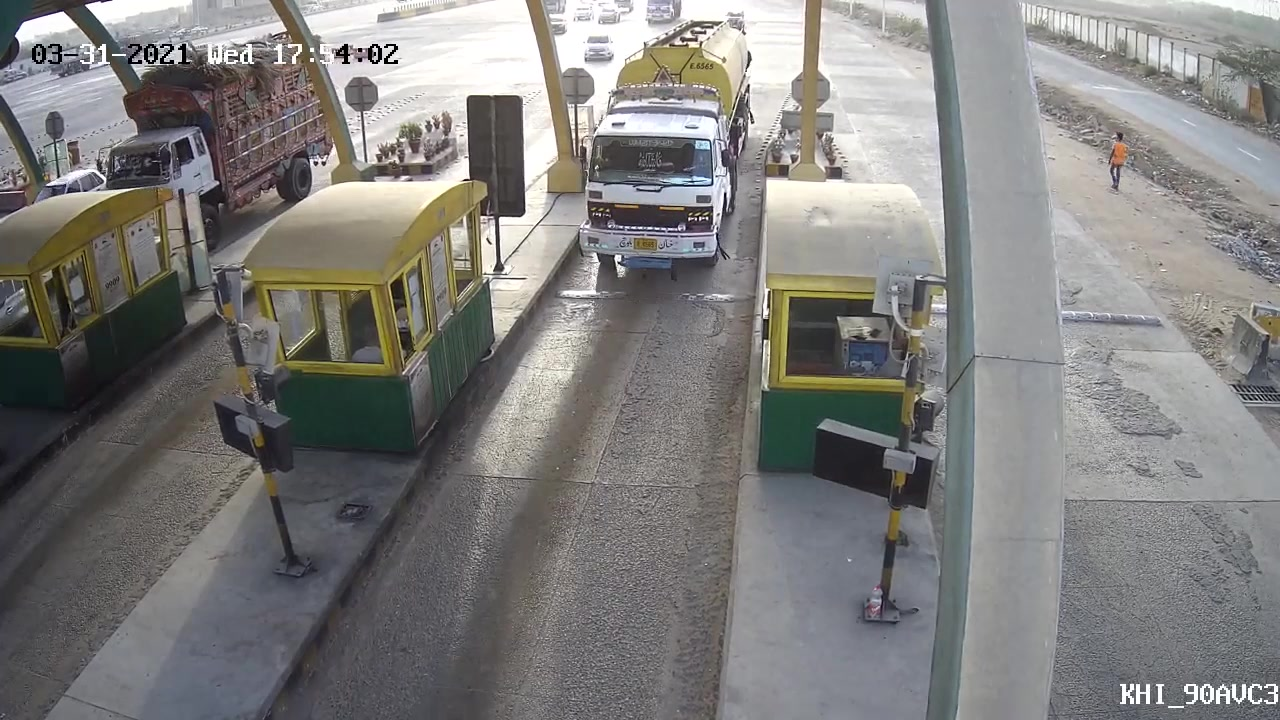F6: (572, 12, 755, 278)
